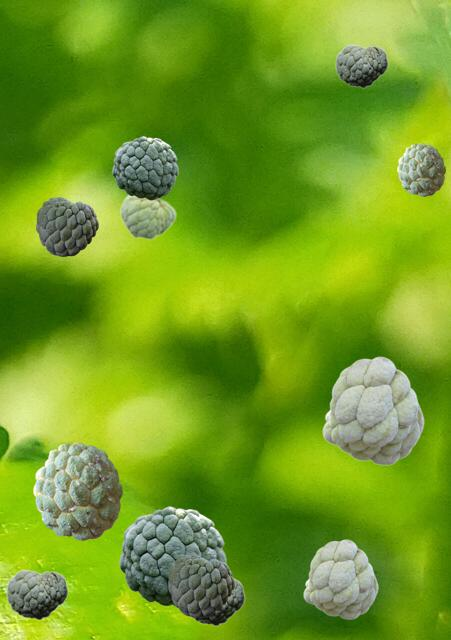atis: (322, 356, 423, 464), (119, 506, 225, 608), (33, 442, 121, 539), (303, 539, 377, 618), (112, 136, 177, 199), (168, 554, 233, 616), (36, 197, 97, 255), (6, 569, 67, 619), (190, 577, 244, 625), (119, 195, 175, 239), (397, 143, 444, 195), (335, 44, 387, 87)
